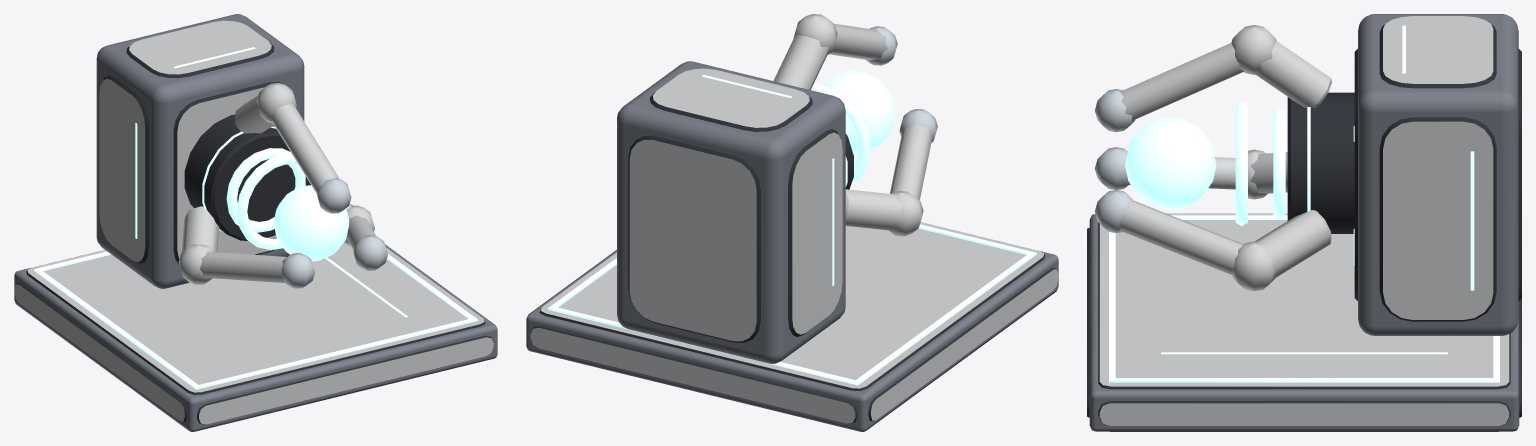
Rendered from R4X_DirectionalEMP.fbx.
3 renders of one model, left to right at view 1: azimuth 30°, elevation 25°; view 2: azimuth 150°, elevation 25°; view 3: azimuth 270°, elevation 25°, orthographic. The views are drawn at different scales.
Visible parts, largest first — view 1: R4X_DirectionalEMP_Body; view 2: R4X_DirectionalEMP_Body; view 3: R4X_DirectionalEMP_Body.
Part boxes in pixels (left/top/right/bottom): R4X_DirectionalEMP_Body: left=14, top=14, right=497, bottom=431; R4X_DirectionalEMP_Body: left=526, top=14, right=1058, bottom=431; R4X_DirectionalEMP_Body: left=1087, top=14, right=1521, bottom=431.
Bounding box in the file's own units: 0.52 × 0.42 × 0.52.
